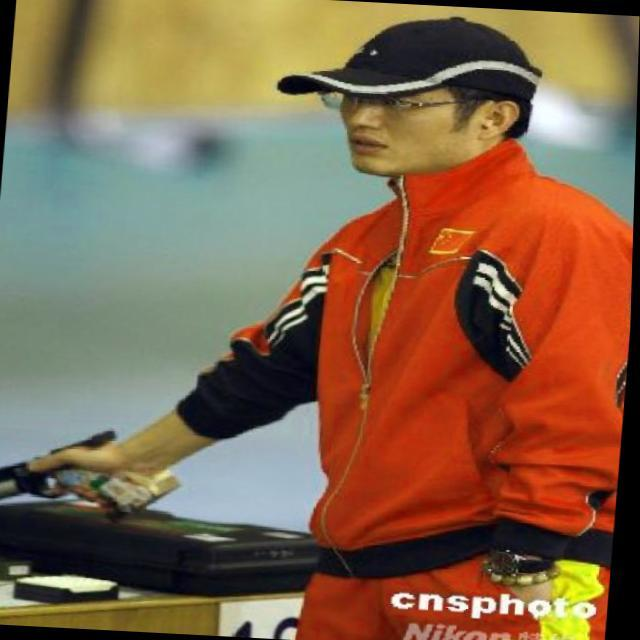weapon: (0, 419, 187, 538)
